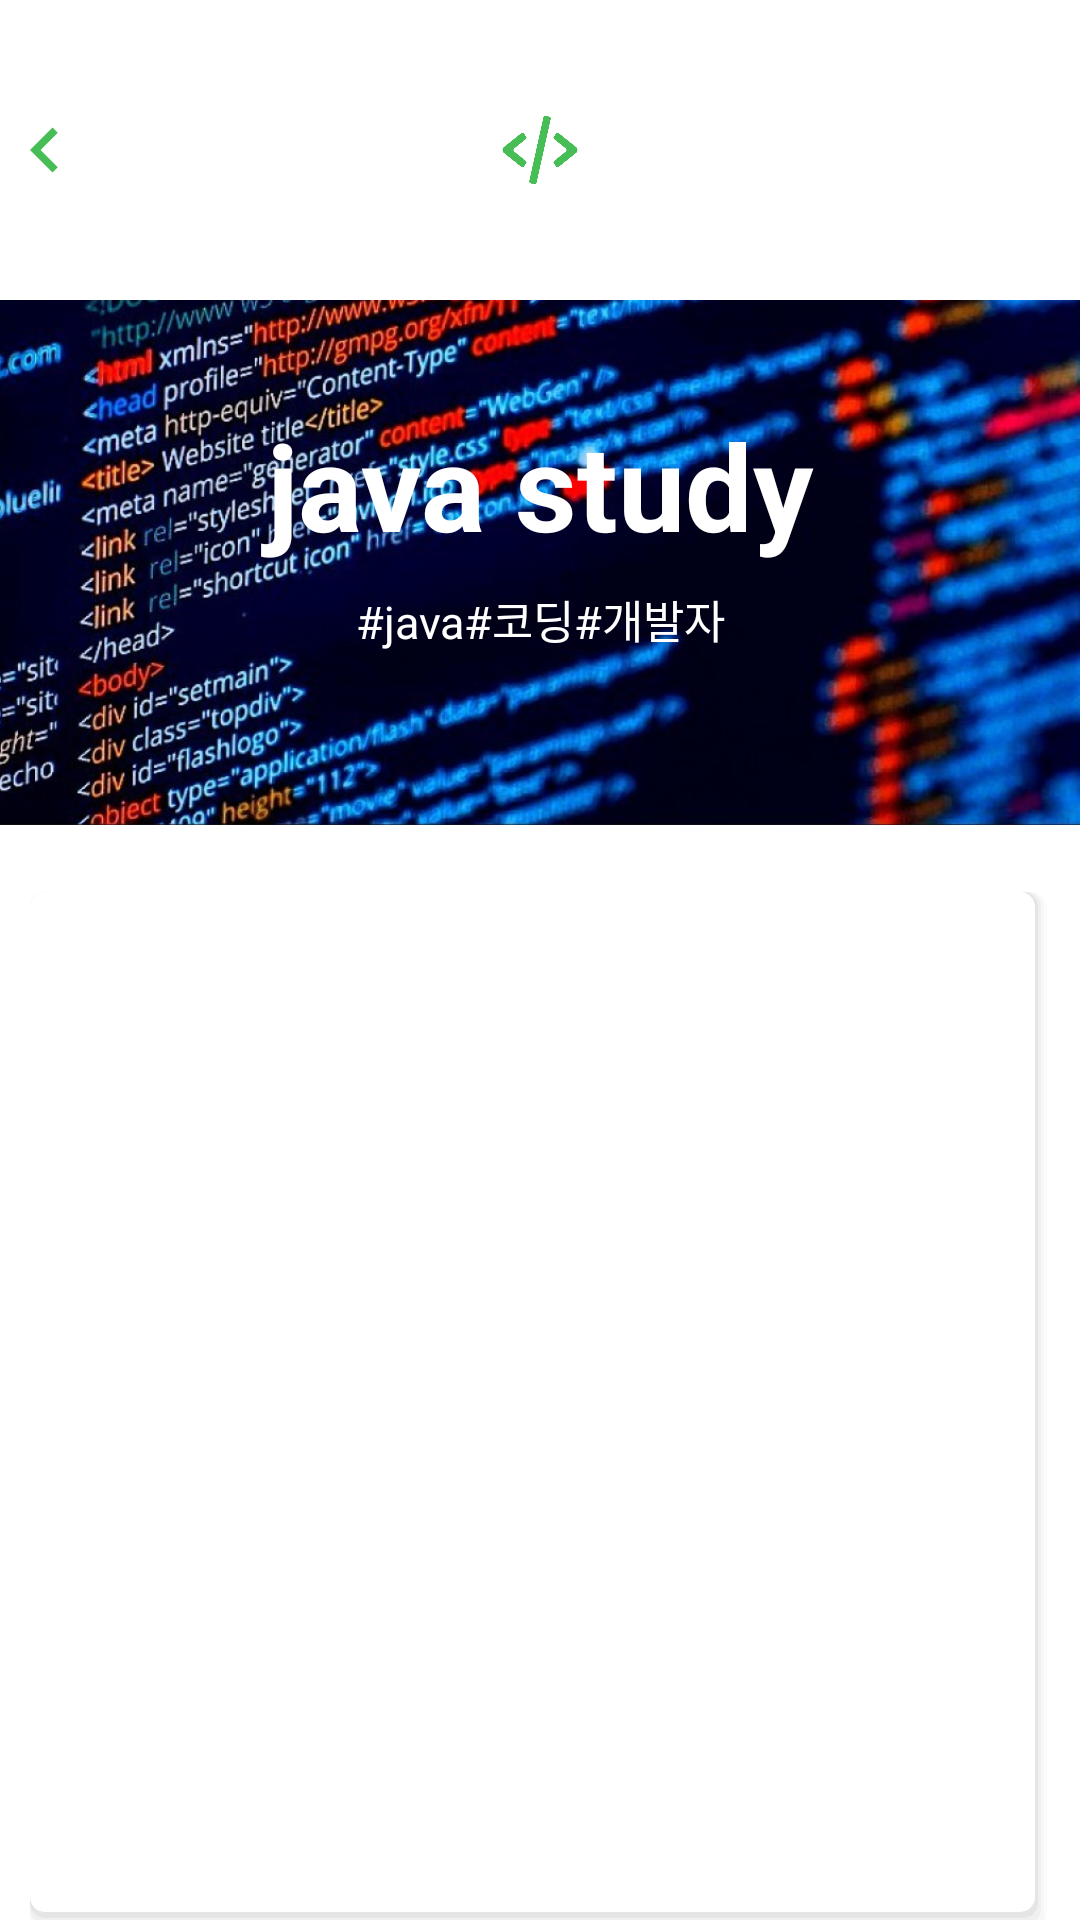

Point at icon controls on the screen. Image size 1080 x 1920, points as (x=x, y=y).
navigate before: (x=44, y=150)
